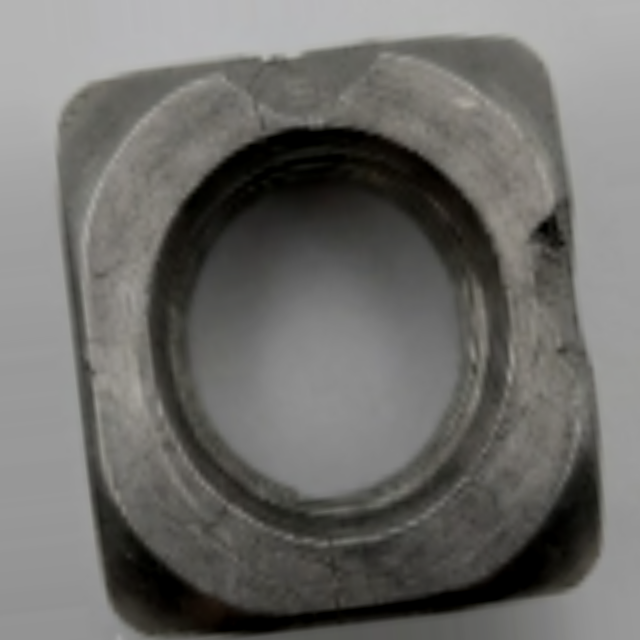defect: (526, 188, 600, 403), (216, 36, 390, 115)
